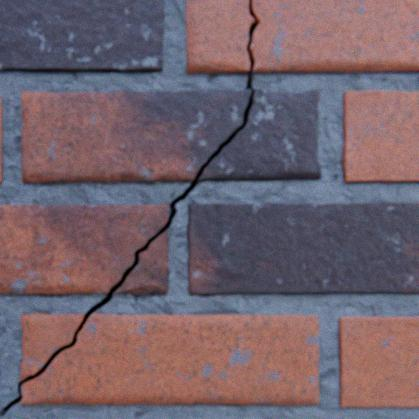brick: (187, 203, 418, 294), (0, 0, 163, 73), (337, 317, 418, 406), (341, 91, 418, 183), (0, 95, 3, 184)
broken_brick: (21, 314, 318, 404), (22, 91, 250, 183), (0, 204, 167, 293), (248, 0, 418, 73), (198, 90, 319, 181), (186, 0, 252, 74), (21, 313, 84, 379), (114, 229, 168, 293)
crack: (0, 0, 256, 417)
